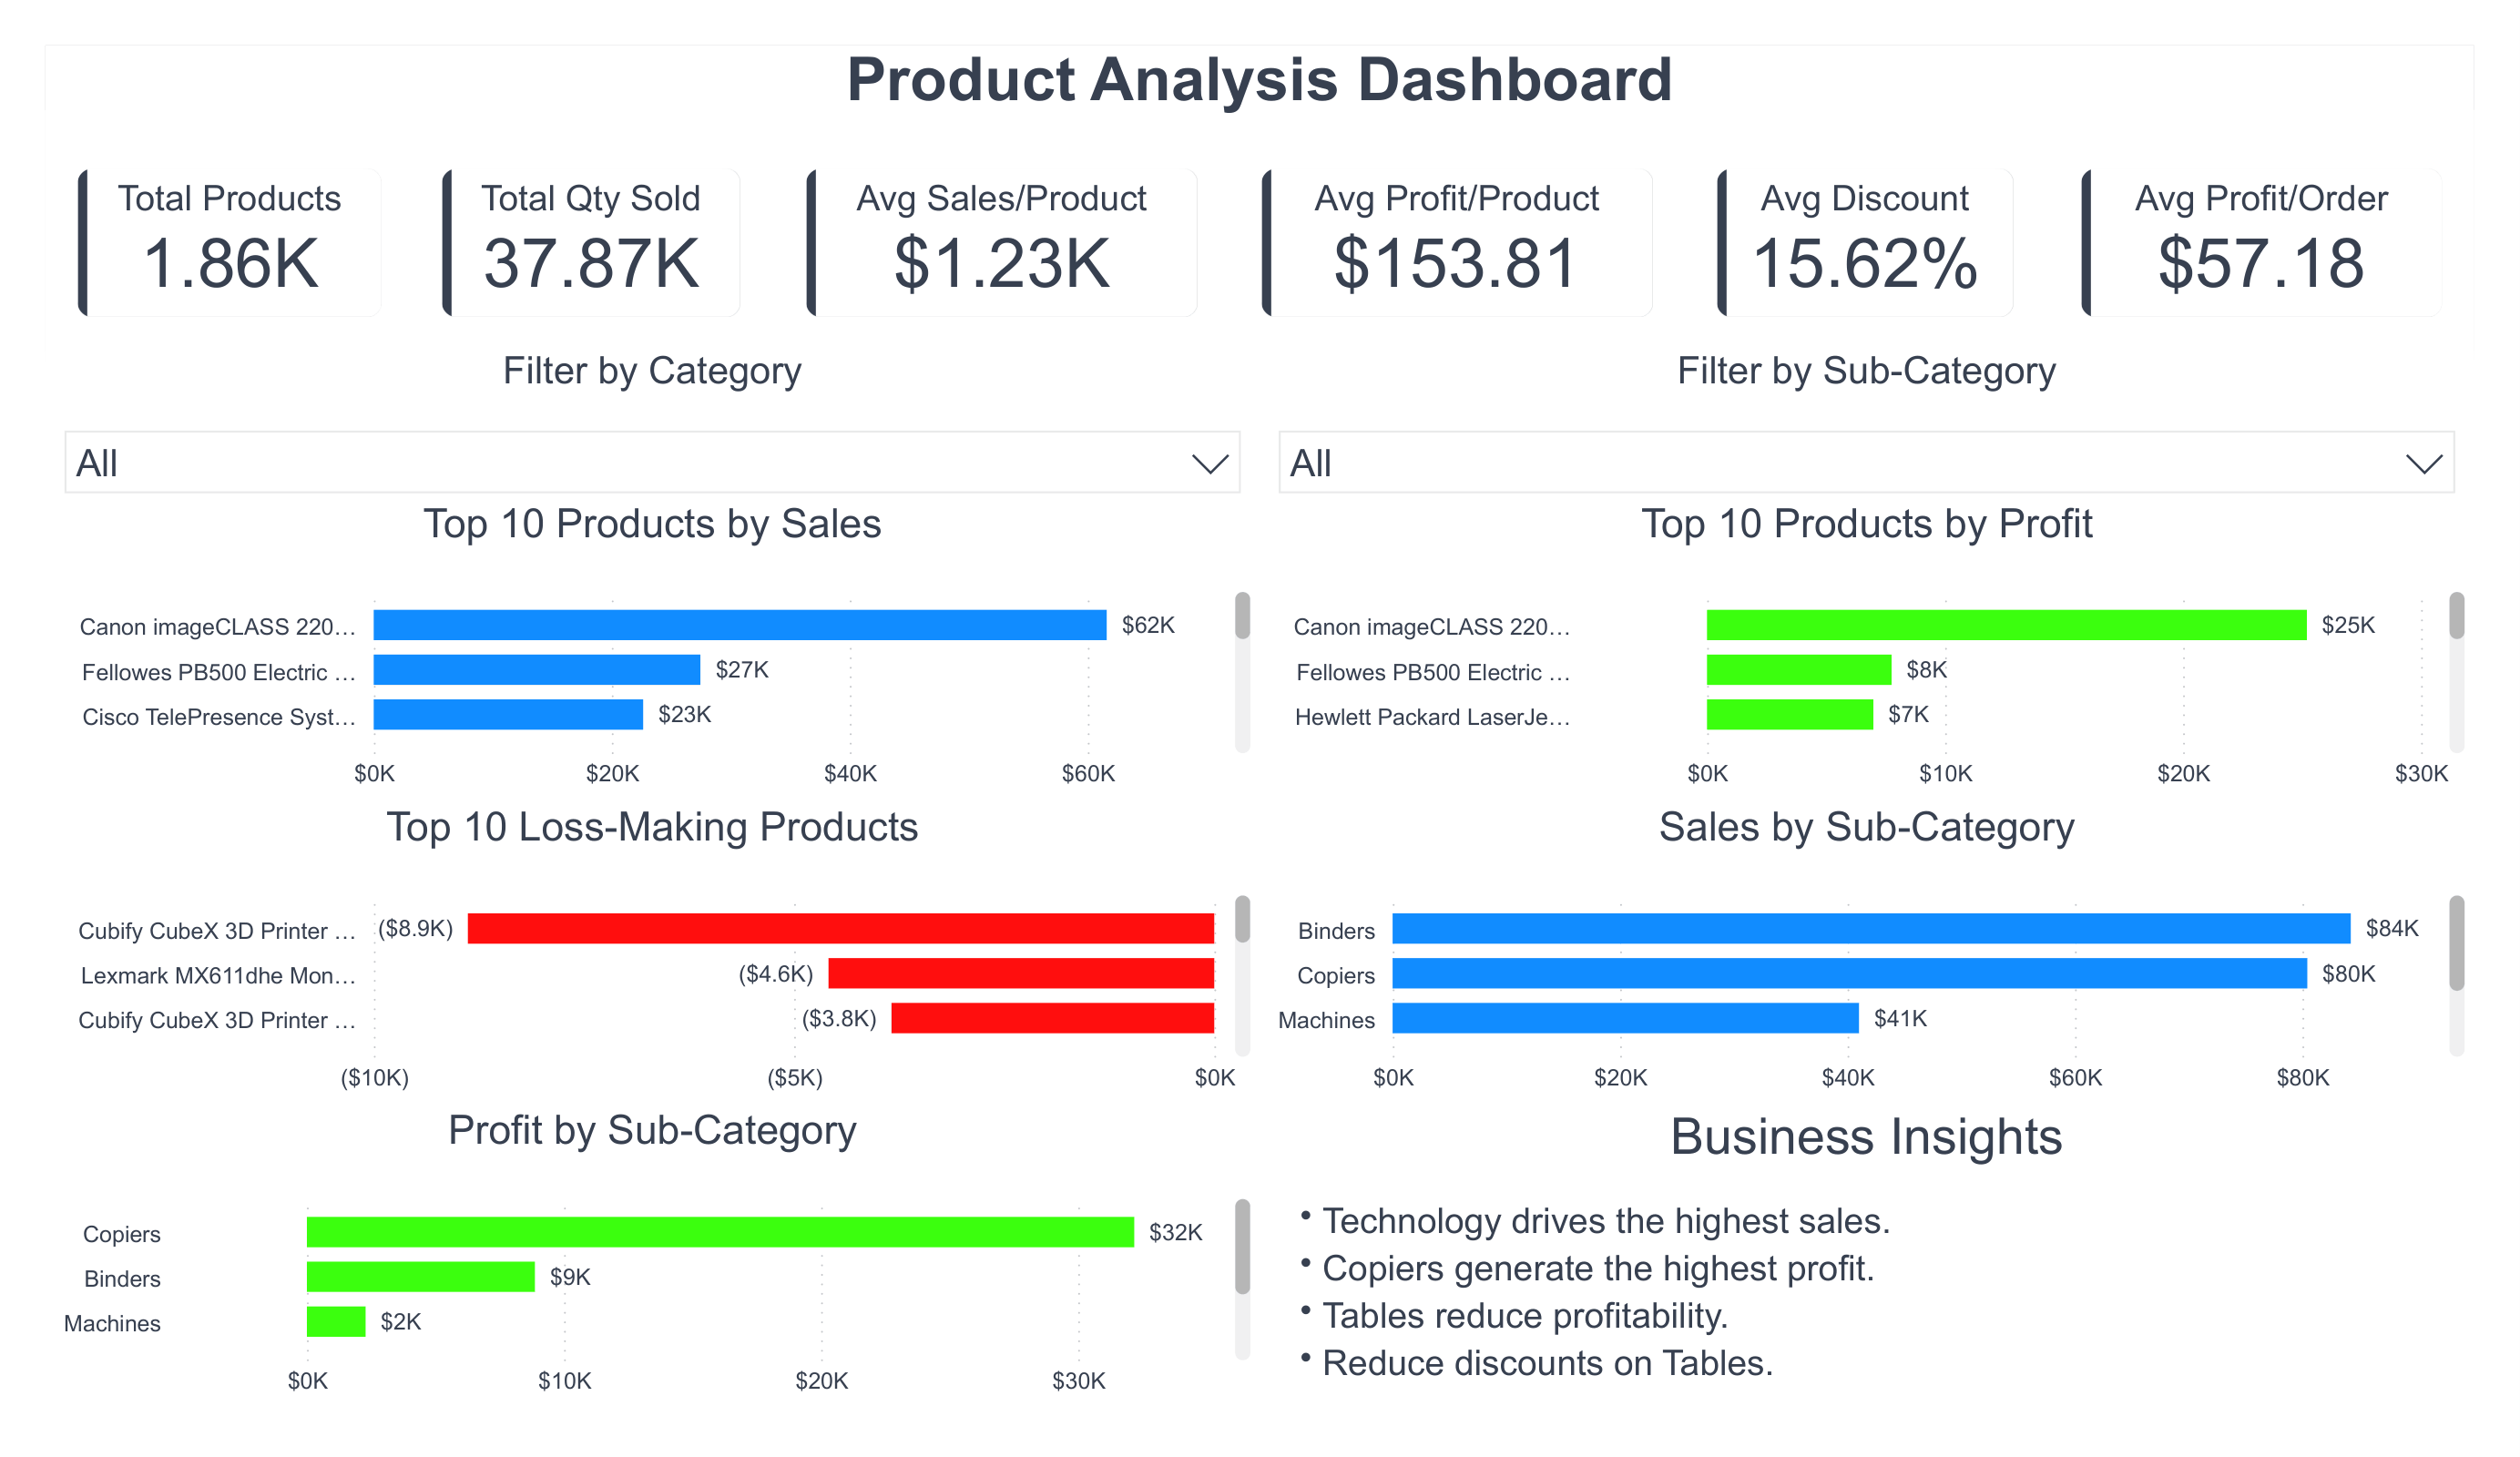

The dashboard page shown, as its layout file describes it:
{"tool":"powerbi","page":{"name":"Product Analysis Dashboard","canvas":[1280,720],"ordinal":1},"visuals":[{"type":"clusteredBarChart","title":"Top 10 Products by Sales","fields":{"Category":["Dim_Product.product_name"],"Y":["Measures (4).Total Sales"]},"box":[0,240,640,160],"z":0},{"type":"textbox","title":"Product Analysis Dashboard","box":[0,0,1280,48],"z":1000},{"type":"cardVisual","title":"Total Products","fields":{"Data":["Measures (4).Total Products"]},"box":[0,48,194,112],"z":2000},{"type":"cardVisual","title":"Total Qty Sold","fields":{"Data":["Measures (4).Total Quantity Sold"]},"box":[192,48,191,112],"z":3000},{"type":"cardVisual","title":"Avg Sales/Product","fields":{"Data":["Measures (4).Average Sales per Product"]},"box":[384,48,240,112],"z":4000},{"type":"cardVisual","title":"Avg Profit/Product","fields":{"Data":["Measures (4).Average Profit per Product"]},"box":[624,48,240,112],"z":5000},{"type":"cardVisual","title":"Avg Discount","fields":{"Data":["Measures (4).Average Discount"]},"box":[864,48,190,112],"z":6000},{"type":"cardVisual","title":"Avg Profit/Order","fields":{"Data":["Measures (4).Average Profit per Order"]},"box":[1056,48,224,112],"z":7000},{"type":"clusteredBarChart","title":"Top 10 Products by Profit","fields":{"Category":["Dim_Product.product_name"],"Y":["Measures (4).Total Profit"]},"box":[640,240,640,160],"z":8000},{"type":"clusteredBarChart","title":"Sales by Sub-Category","fields":{"Y":["Measures (4).Total Sales"],"Category":["Dim_Product.sub_category"]},"box":[640,400,640,160],"z":9000},{"type":"clusteredBarChart","title":"Profit by Sub-Category","fields":{"Y":["Measures (4).Total Profit"],"Category":["Dim_Product.sub_category"]},"box":[0,560,640,160],"z":10000},{"type":"slicer","title":"Filter by Category","fields":{"Values":["Dim_Product.category"]},"box":[0,160,640,80],"z":11000},{"type":"slicer","title":"Filter by Sub-Category","fields":{"Values":["Dim_Product.sub_category"]},"box":[640,160,640,80],"z":12000},{"type":"textbox","title":"Business Insights","box":[640,560,640,160],"z":13000},{"type":"clusteredBarChart","title":" Top 10 Loss-Making Products ","fields":{"Category":["Dim_Product.product_name"],"Y":["Measures (4).Total Profit"]},"box":[0,400,640,160],"z":14000}]}

Visuals, with their boxes on the page's 1280x720 design canvas (x1, y1, x2, y2). These are canvas units, not pixel positions in the 2520x1457 screenshot, which may show the page scaled, cropped or inside an application window:
"Top 10 Products by Sales" clusteredBarChart: l=0, t=240, r=640, b=400
"Product Analysis Dashboard" textbox: l=0, t=0, r=1280, b=48
"Total Products" cardVisual: l=0, t=48, r=194, b=160
"Total Qty Sold" cardVisual: l=192, t=48, r=383, b=160
"Avg Sales/Product" cardVisual: l=384, t=48, r=624, b=160
"Avg Profit/Product" cardVisual: l=624, t=48, r=864, b=160
"Avg Discount" cardVisual: l=864, t=48, r=1054, b=160
"Avg Profit/Order" cardVisual: l=1056, t=48, r=1280, b=160
"Top 10 Products by Profit" clusteredBarChart: l=640, t=240, r=1280, b=400
"Sales by Sub-Category" clusteredBarChart: l=640, t=400, r=1280, b=560
"Profit by Sub-Category" clusteredBarChart: l=0, t=560, r=640, b=720
"Filter by Category" slicer: l=0, t=160, r=640, b=240
"Filter by Sub-Category" slicer: l=640, t=160, r=1280, b=240
"Business Insights" textbox: l=640, t=560, r=1280, b=720
" Top 10 Loss-Making Products " clusteredBarChart: l=0, t=400, r=640, b=560
